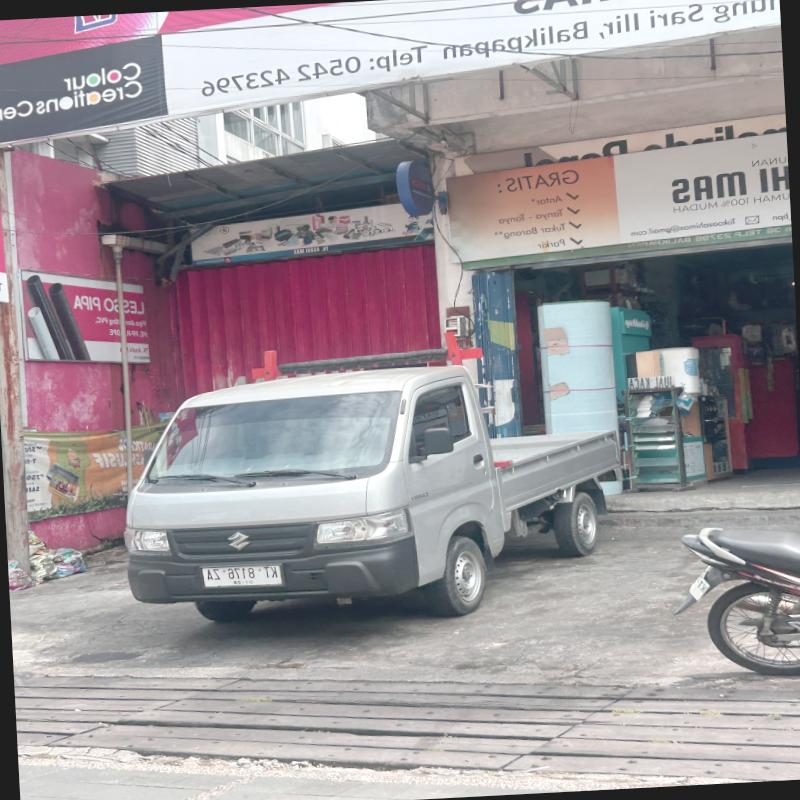license plate on a car: (201, 564, 286, 587)
